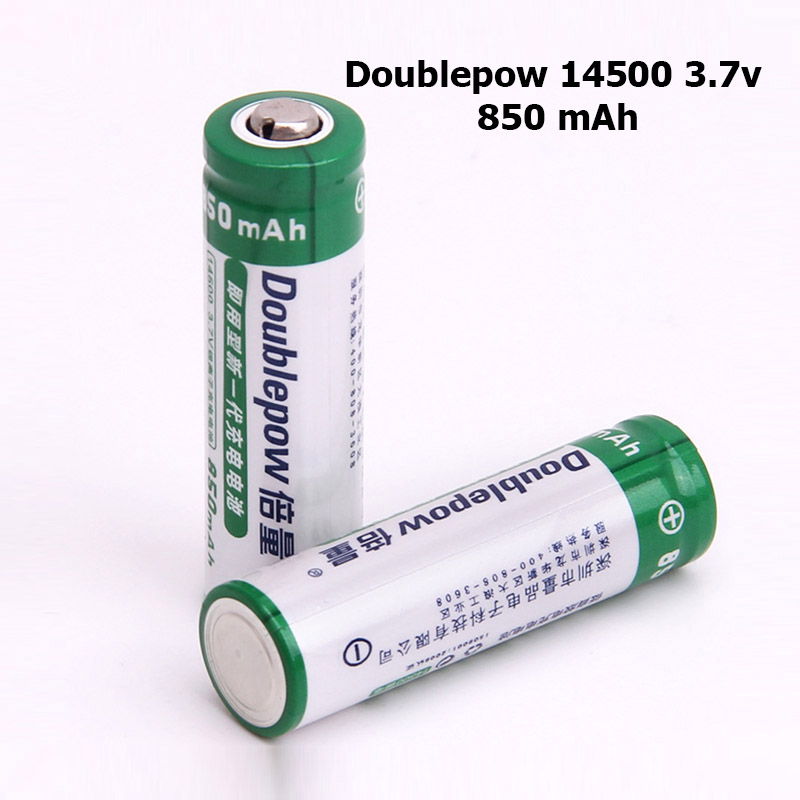Battery: (197, 412, 720, 744), (196, 89, 368, 537)
